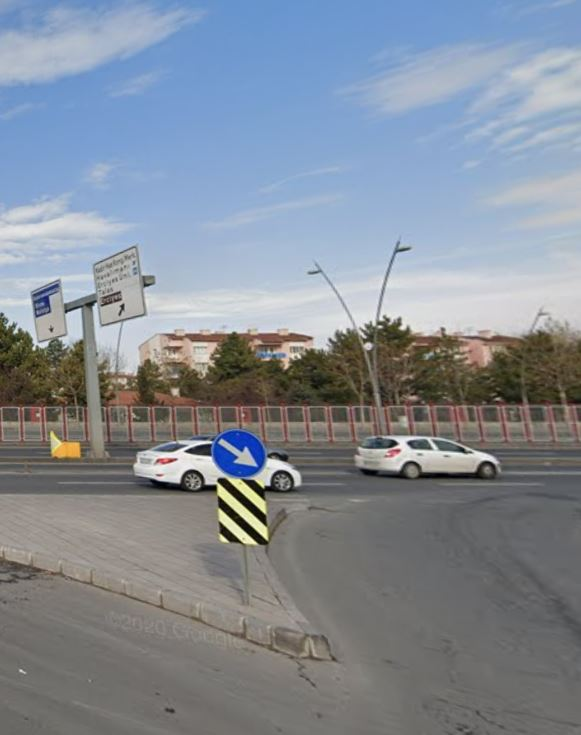Sagdan Git: (213, 424, 269, 479)
